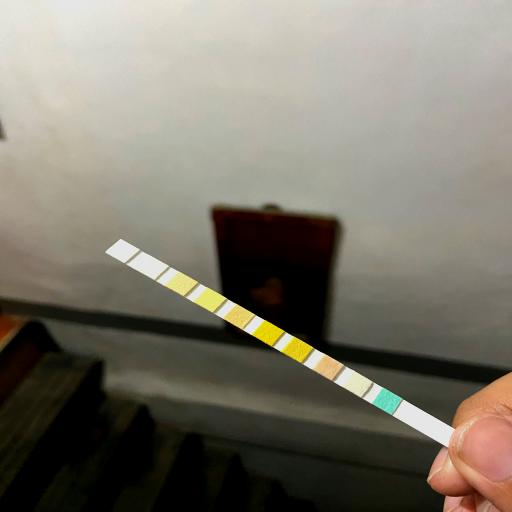Bilirubin: (349, 378, 365, 392)
Blood: (260, 326, 276, 340)
Glucose: (378, 394, 394, 408)
Ketone: (320, 360, 336, 374)
Leukocytes: (112, 245, 132, 256)
Nitrite: (144, 261, 160, 274)
Protein: (202, 293, 218, 306)
SpGravity: (288, 344, 306, 356)
Urobilinogen: (172, 278, 190, 290)
pH: (230, 310, 246, 322)
strip: (105, 239, 453, 442)
